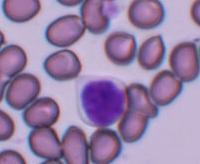L: (76, 76, 128, 128)
